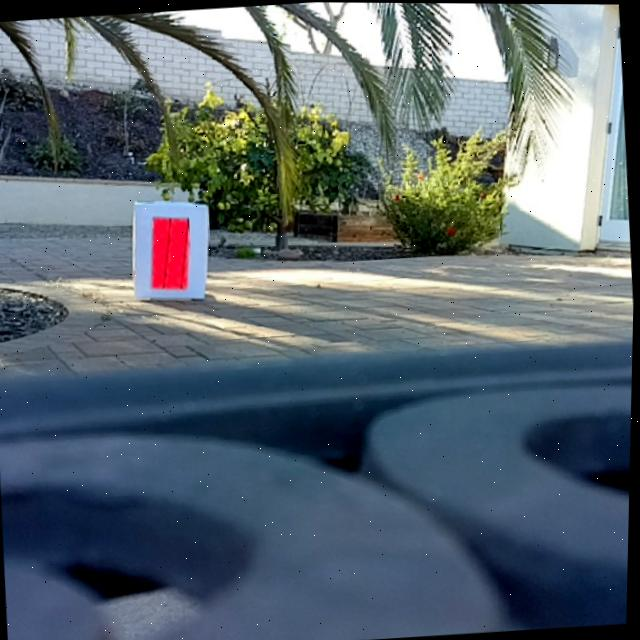led: (148, 212, 197, 293)
